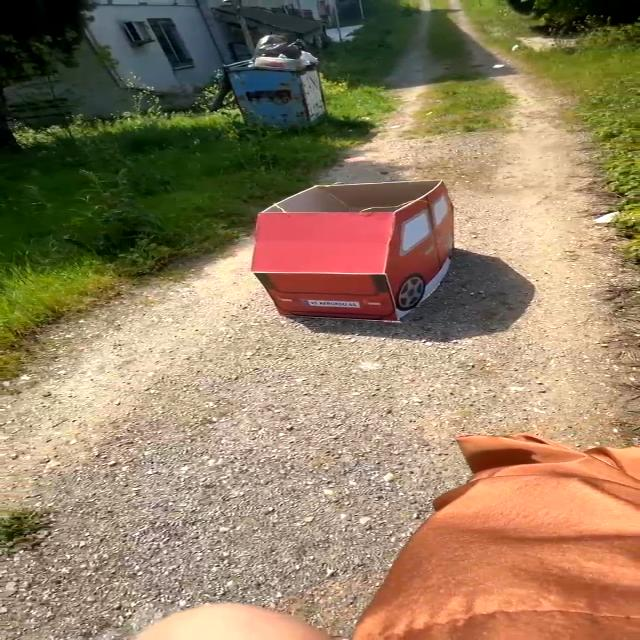red_car: (238, 167, 502, 341)
